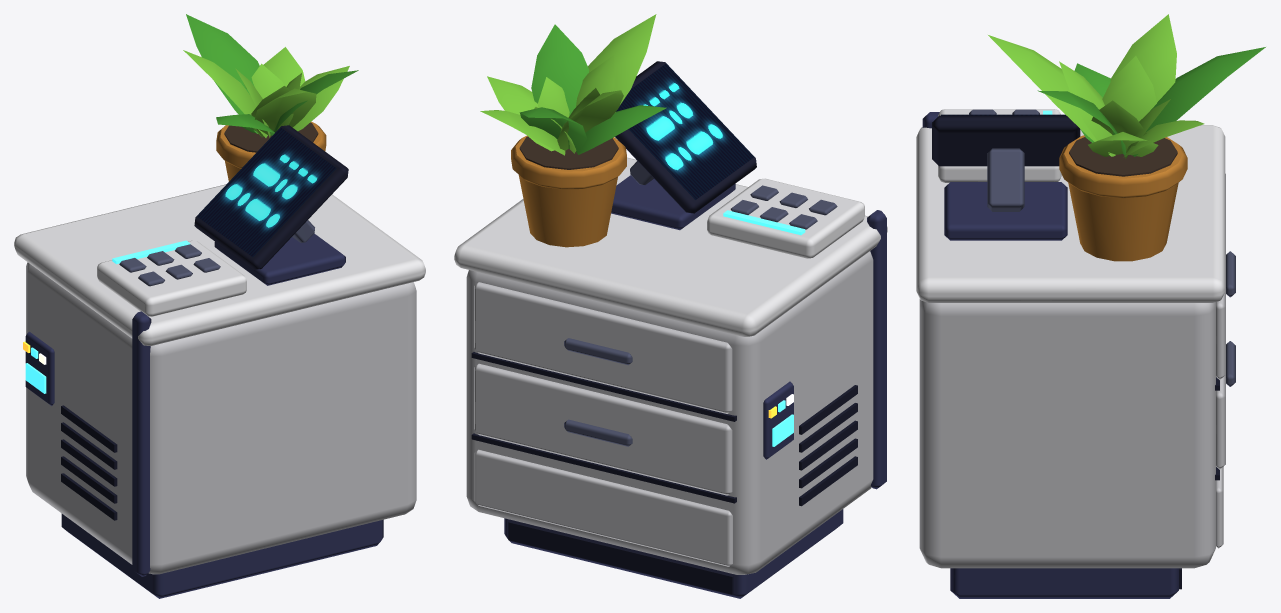
Rendered from prop.props_quarters.side_table_plant.glb.
3 renders of one model, left to right at view 1: azimuth 30°, elevation 25°; view 2: azimuth 150°, elevation 25°; view 3: azimuth 270°, elevation 25°, orthographic. The views are drawn at different scales.
Visible parts, largest first — view 1: prop.props_quarters.side_table_plant; view 2: prop.props_quarters.side_table_plant; view 3: prop.props_quarters.side_table_plant.
Part boxes in pixels (x1,y1,x2,y2): prop.props_quarters.side_table_plant: (14, 14, 425, 598); prop.props_quarters.side_table_plant: (454, 14, 887, 598); prop.props_quarters.side_table_plant: (916, 14, 1265, 598).
Bounding box in the file's own units: 0.6456 × 0.9484 × 0.5666.
14 materials, 1 textured.
